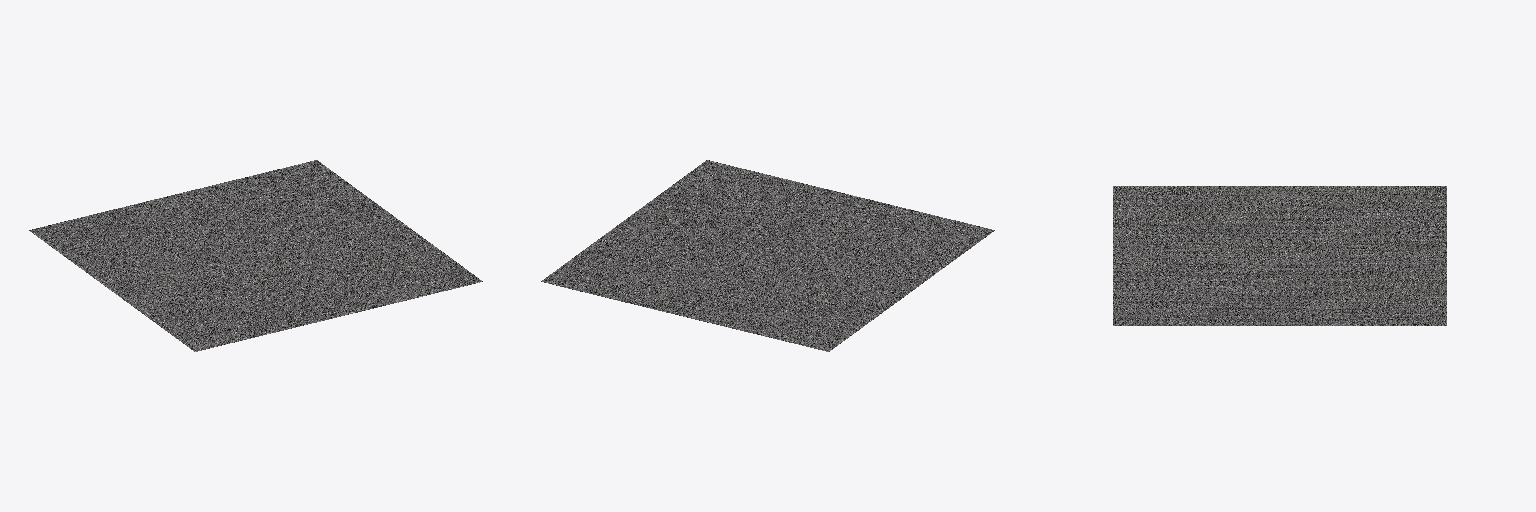
3 views of the same model, side by side, from view 1: azimuth 30°, elevation 25°; view 2: azimuth 150°, elevation 25°; view 3: azimuth 270°, elevation 25° (orthographic).
Visible parts, largest first — view 1: Plane001; view 2: Plane001; view 3: Plane001.
Part boxes in pixels (x1,y1,x2,y2): Plane001: (29,160,482,351); Plane001: (541,160,994,351); Plane001: (1113,186,1446,325).
Bounding box in the file's own units: 200 × 0 × 200.
1 materials, 1 textured.